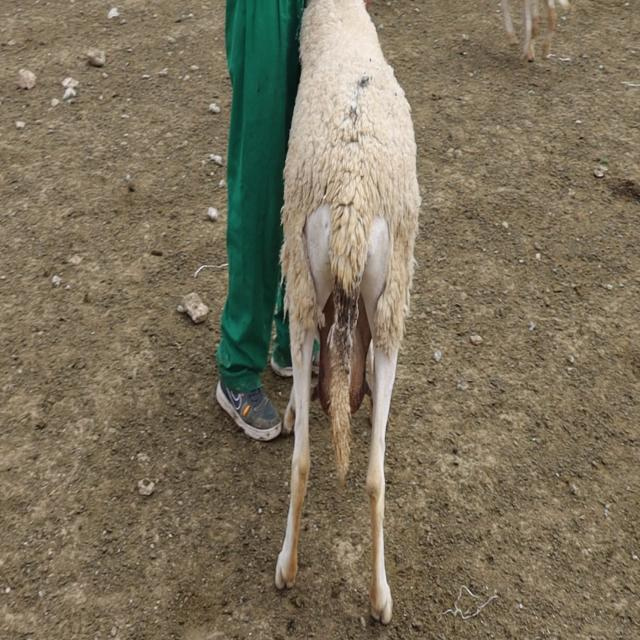Score_2: (275, 0, 421, 623)
